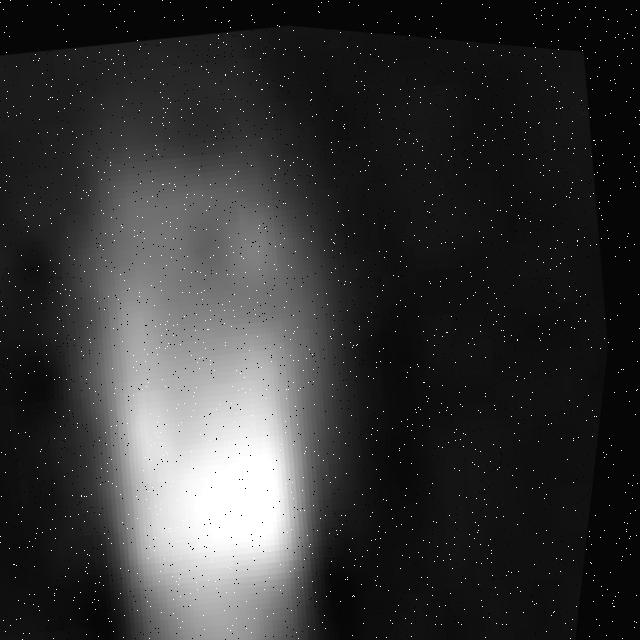person: (1, 73, 422, 640)
